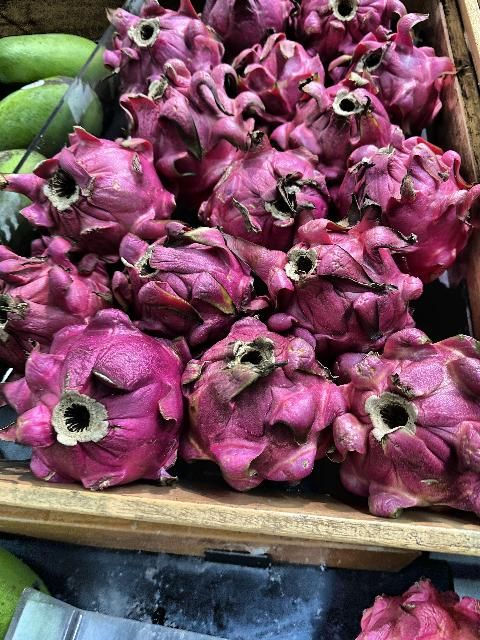buah-naga-matang: (13, 314, 188, 486), (179, 311, 341, 494), (328, 341, 480, 534), (256, 215, 430, 342), (338, 130, 480, 268), (117, 216, 257, 340), (12, 128, 168, 236), (118, 62, 258, 178), (200, 142, 338, 238), (335, 34, 461, 126), (0, 240, 108, 342), (270, 75, 400, 159), (98, 0, 227, 74), (233, 36, 324, 118), (291, 0, 407, 46), (196, 0, 292, 40)
